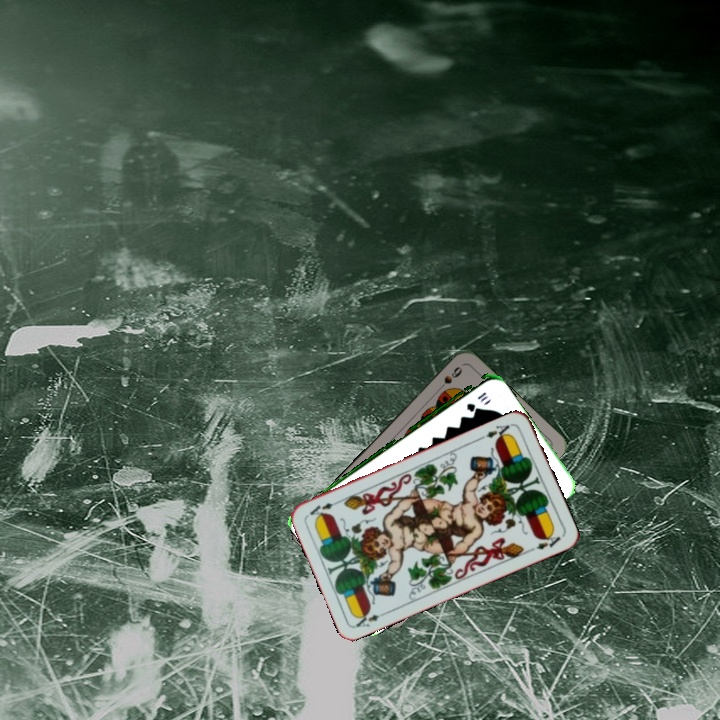EA: (351, 607, 390, 630), (482, 419, 515, 444)
G10: (462, 388, 490, 413)
S9: (433, 362, 465, 394)
